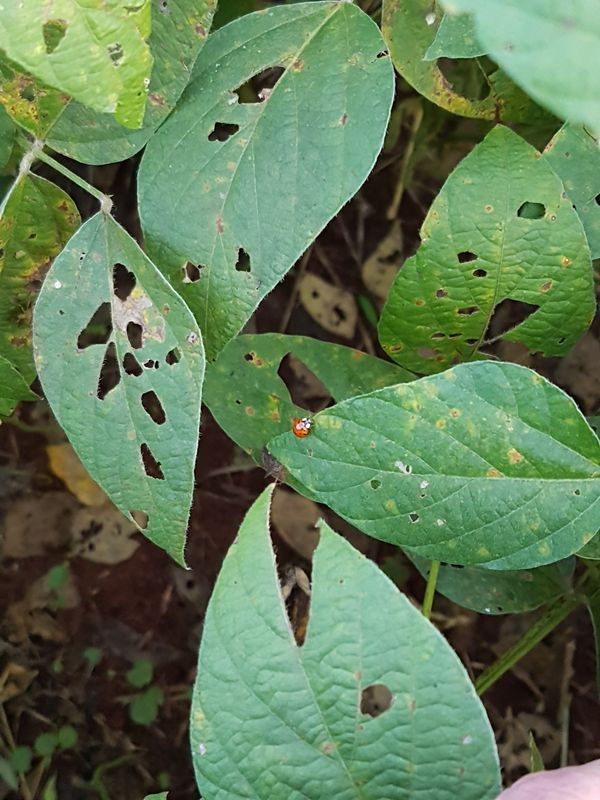Coccinellidae: (285, 411, 322, 445)
